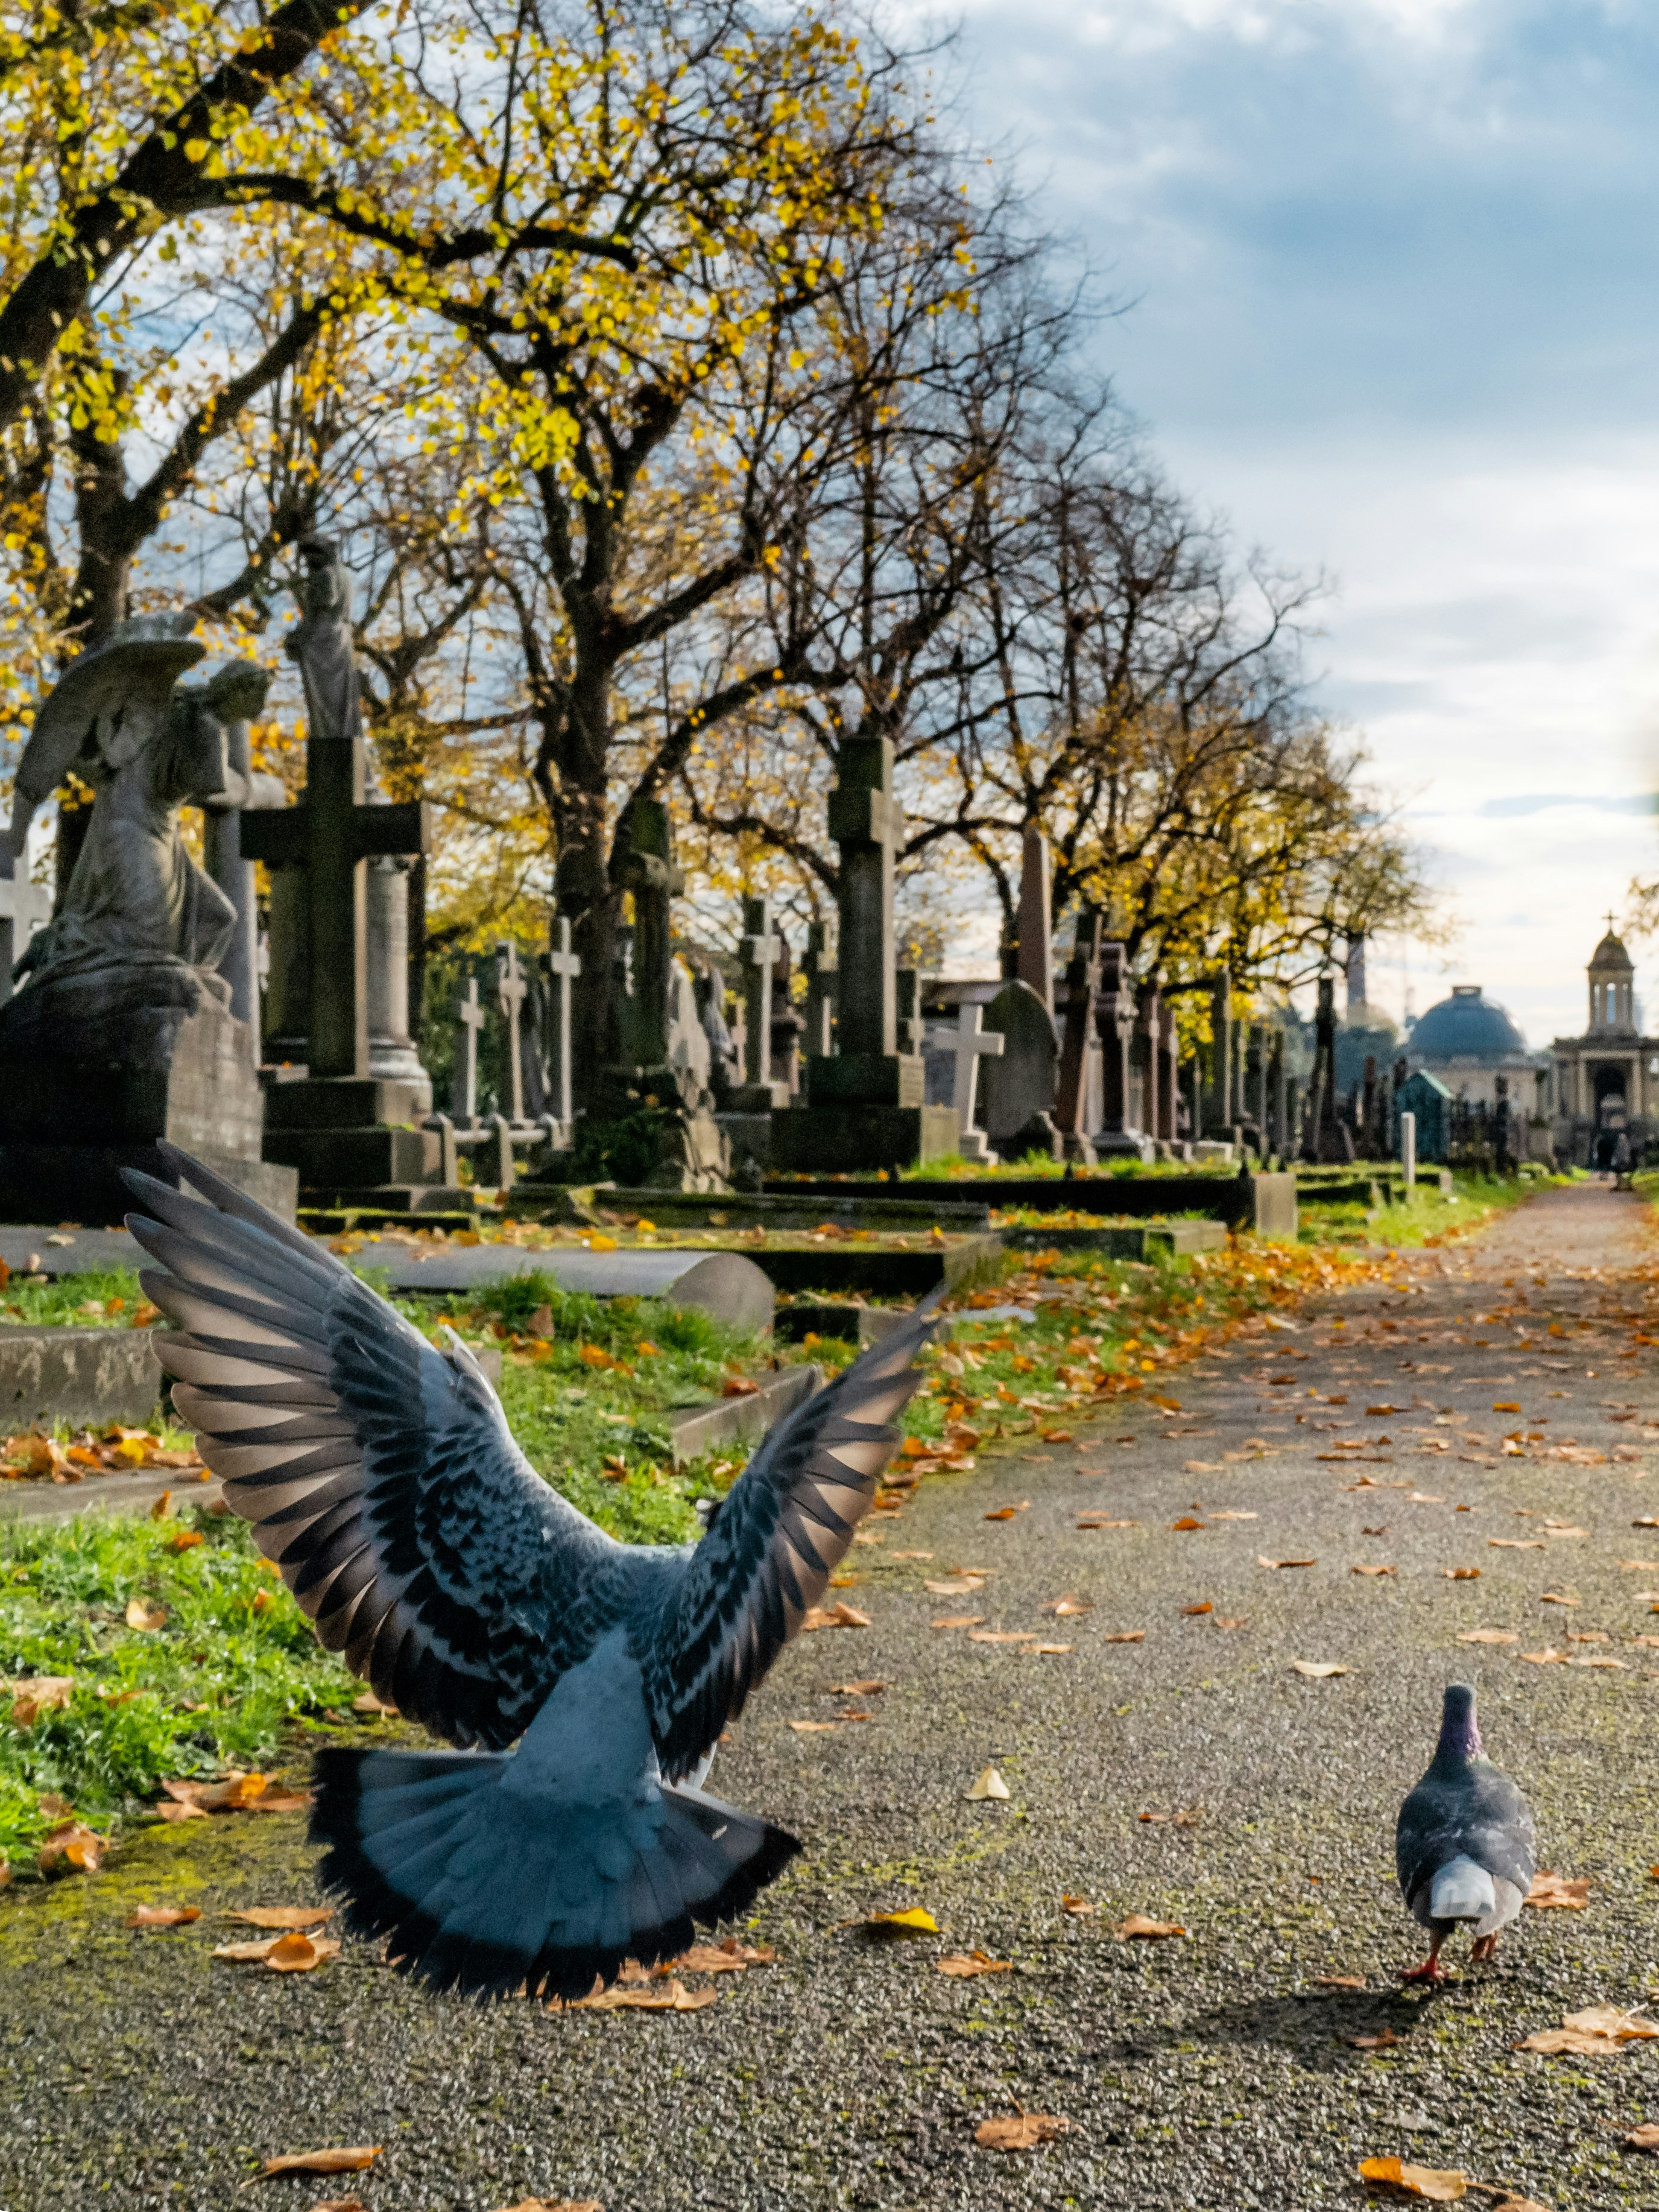pigeon: (68, 1070, 929, 2013), (1342, 1663, 1595, 2019)
